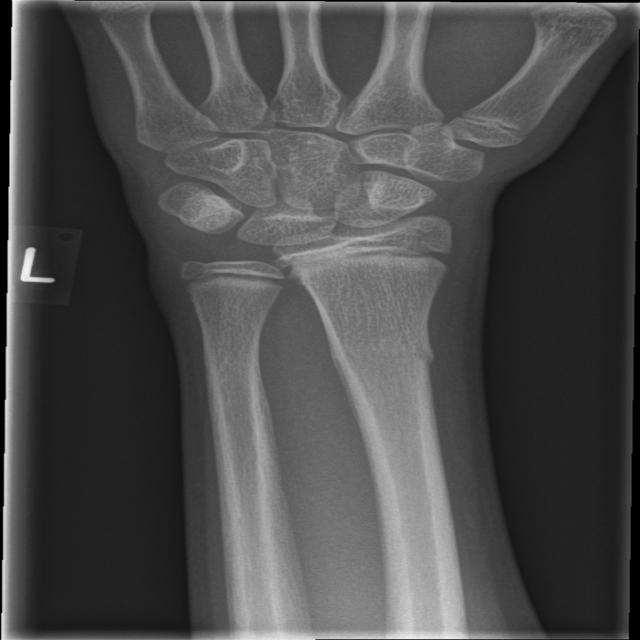radius fracture: (353, 306, 481, 396)
